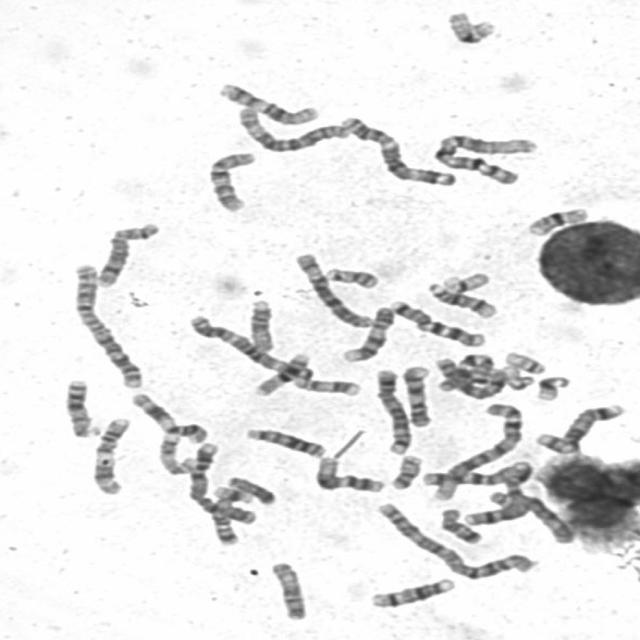A1: (422, 400, 526, 500), (427, 130, 540, 186)
A2: (371, 498, 538, 582), (66, 260, 145, 390)
A3: (183, 310, 314, 386), (333, 112, 458, 188)
B4: (181, 439, 258, 526), (414, 459, 542, 491)
B5: (530, 400, 628, 456), (370, 365, 415, 456)
C10: (201, 147, 258, 214), (512, 496, 578, 547)
C11: (125, 389, 210, 445), (86, 414, 133, 496)
C12: (212, 79, 321, 126), (309, 453, 387, 495)
C6: (290, 250, 376, 328), (230, 103, 352, 154)
C7: (383, 296, 488, 348), (434, 350, 500, 394)
C8: (90, 218, 162, 289), (460, 488, 532, 527)
C9: (338, 304, 398, 364), (397, 362, 433, 428)
D13: (240, 424, 328, 460), (59, 376, 100, 438)
D14: (422, 278, 498, 320), (365, 575, 457, 609)
D15: (265, 558, 309, 622), (243, 296, 276, 353)
E16: (249, 349, 315, 397), (521, 204, 591, 237)
E17: (152, 430, 195, 476), (287, 373, 363, 397)
E18: (204, 488, 243, 547), (434, 504, 484, 546)
F19: (441, 8, 498, 46), (436, 268, 492, 295)
F20: (320, 264, 381, 290), (386, 452, 424, 491)
G21: (530, 372, 571, 402), (208, 482, 255, 505)
G22: (500, 348, 548, 375), (499, 364, 536, 392)
X: (430, 353, 508, 402)
Y: (221, 474, 279, 506)
